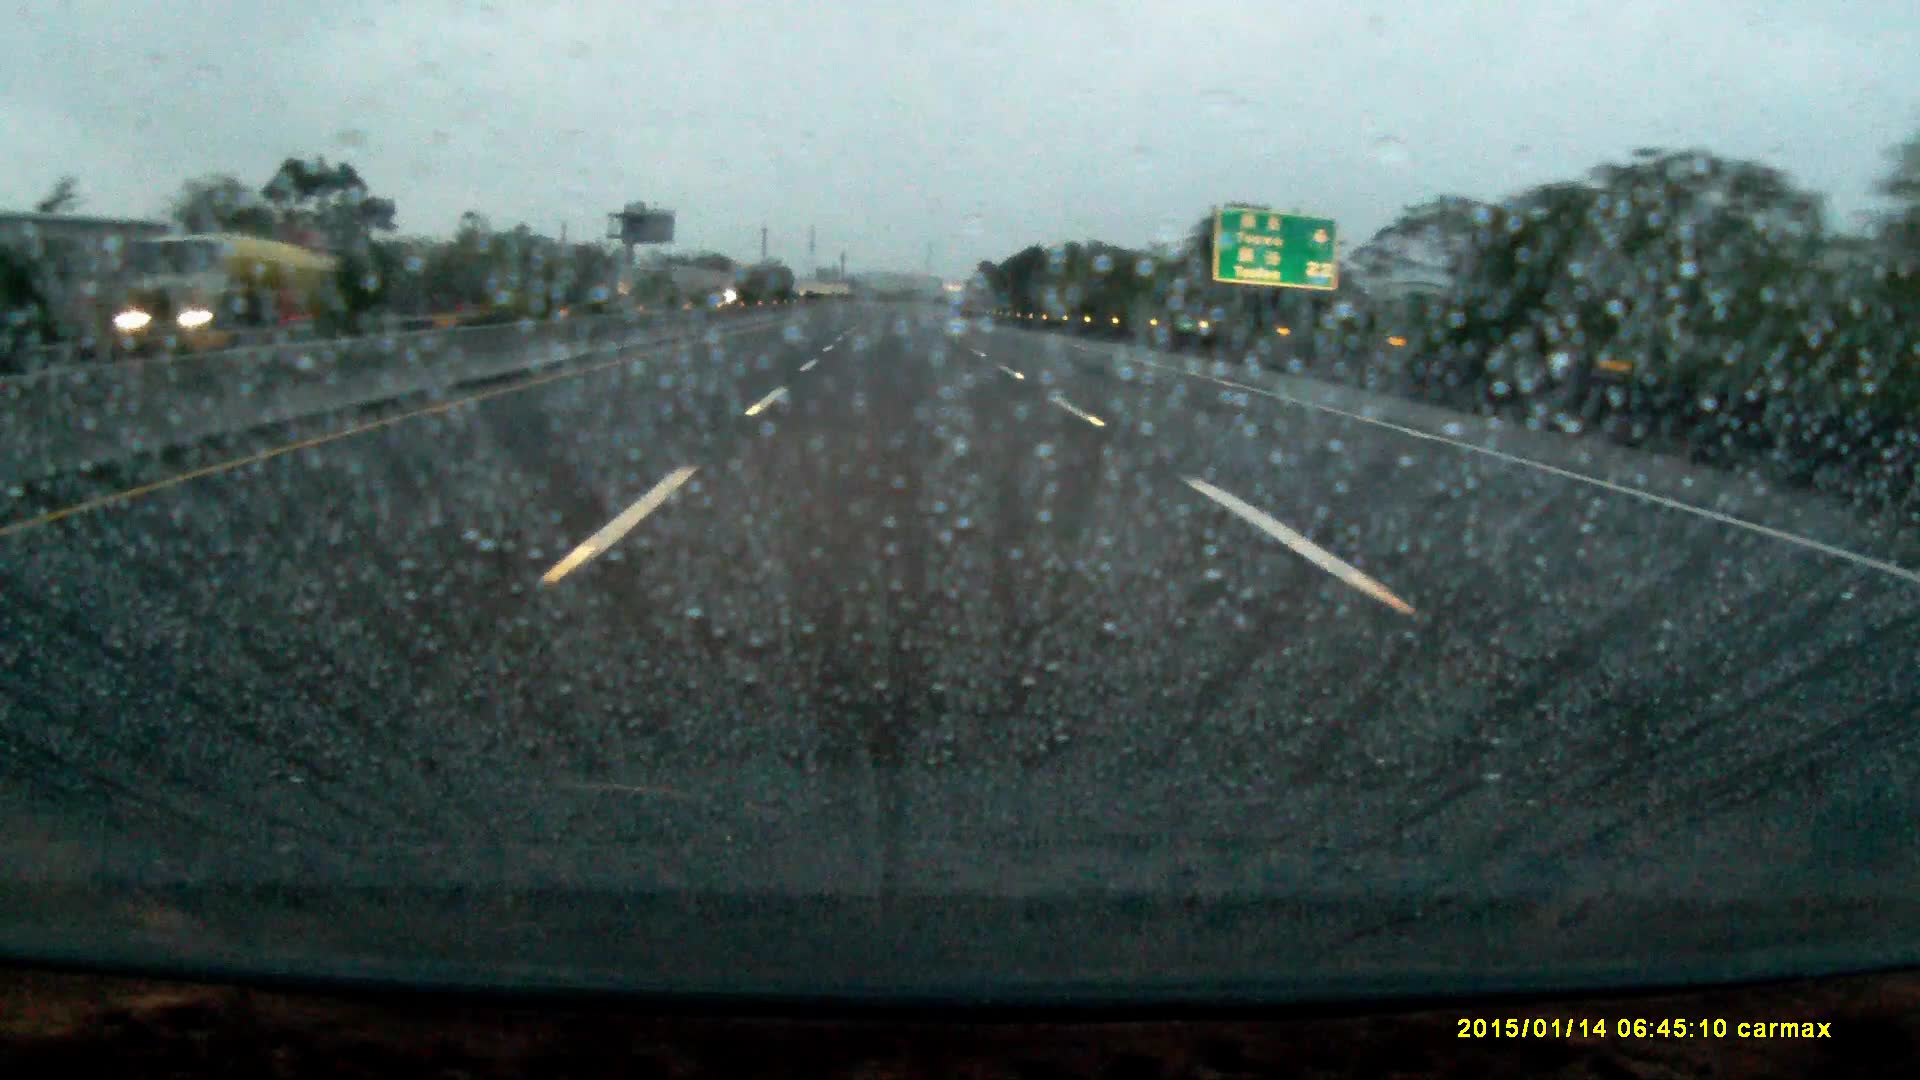vehicle: (98, 237, 323, 326), (115, 291, 262, 342)
